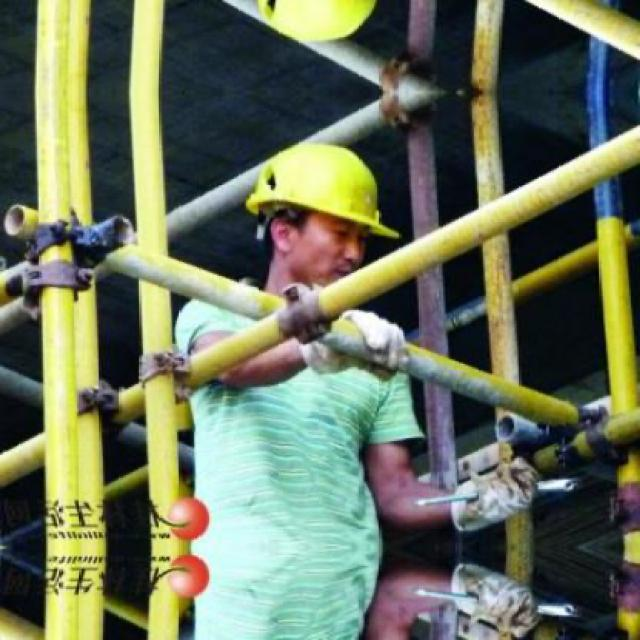con casco: (163, 130, 422, 363)
